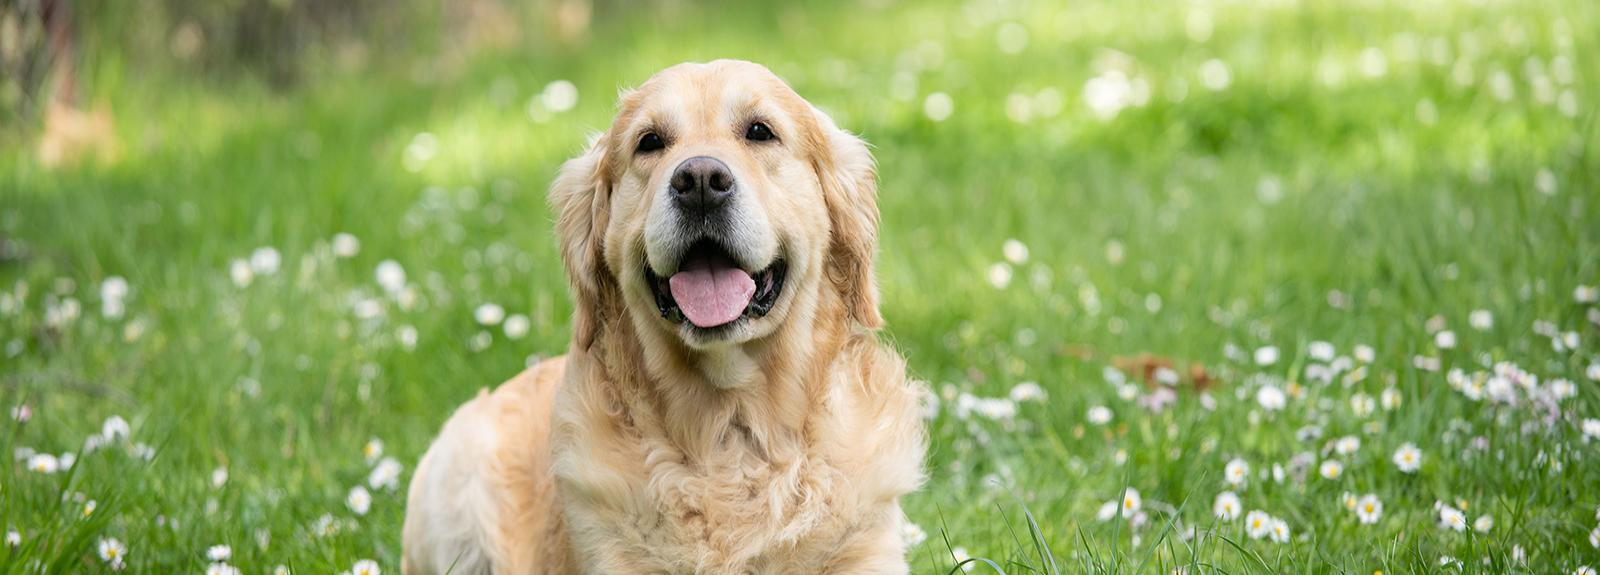pet: (508, 55, 917, 575)
